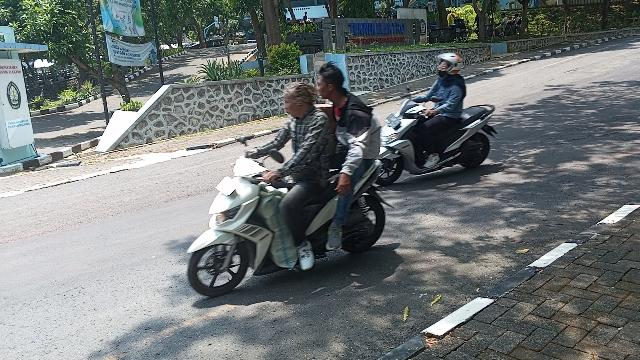helm: (436, 53, 466, 81)
motor: (187, 135, 398, 301), (374, 86, 500, 188)
non-helm: (283, 83, 315, 119), (317, 62, 347, 100)
